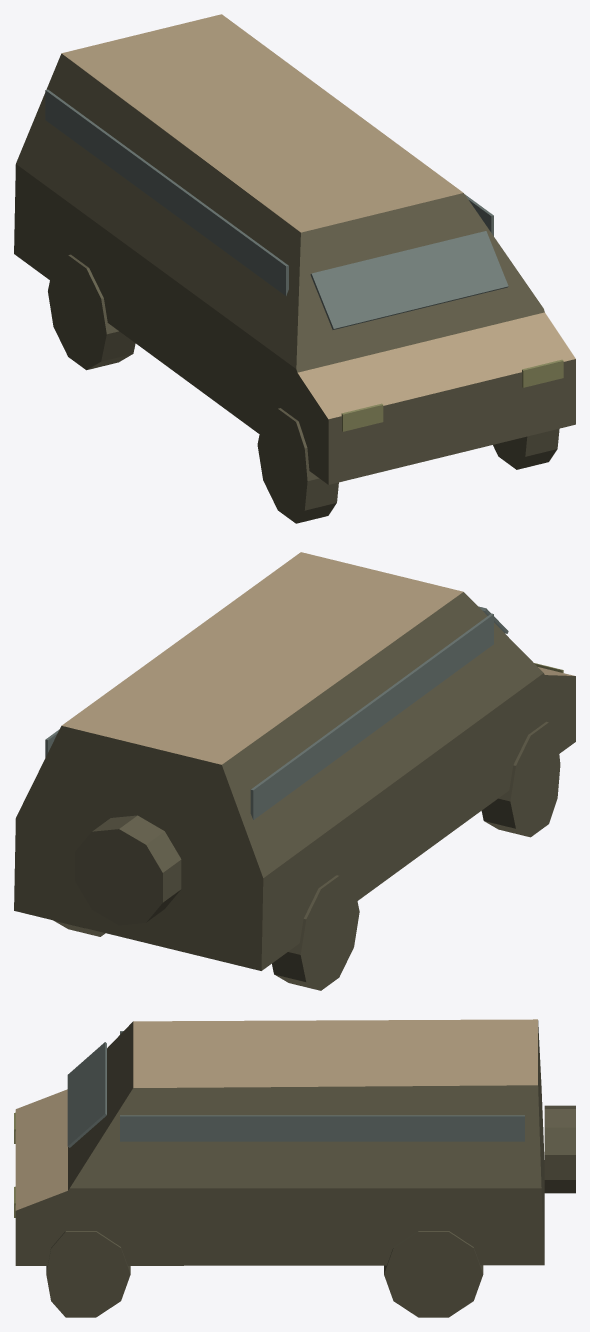
Rendered from SM_CocheCivil_Todoterreno_v3_LOD0.fbx.
3 views of the same model, one above another, from view 1: azimuth 30°, elevation 25°; view 2: azimuth 150°, elevation 25°; view 3: azimuth 270°, elevation 25° (orthographic). The views are drawn at different scales.
Parts seen in each view (by area): view 1: SM_coche_civil_v18_LOD0; view 2: SM_coche_civil_v18_LOD0; view 3: SM_coche_civil_v18_LOD0.
Part boxes in pixels (<box>): SM_coche_civil_v18_LOD0: <box>14,14,575,523</box>; SM_coche_civil_v18_LOD0: <box>14,552,575,990</box>; SM_coche_civil_v18_LOD0: <box>14,1019,575,1317</box>.
Size of the model in its own units: 1.88 by 1.8 by 4.3.
